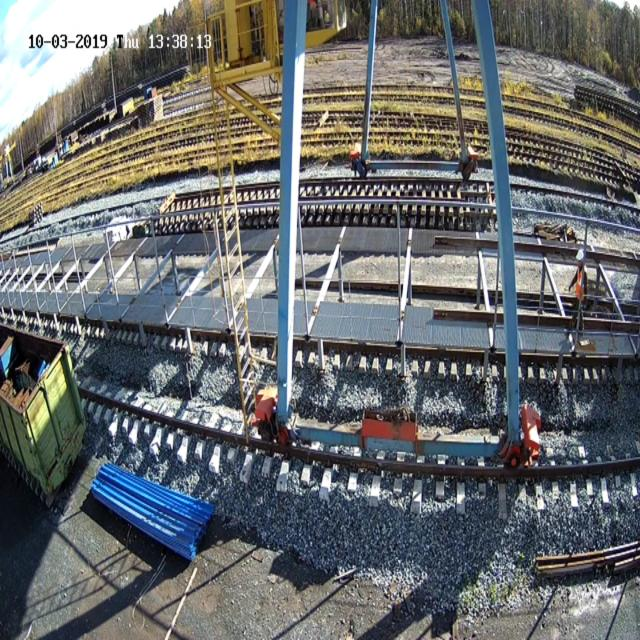Helmet: (575, 249, 585, 261)
Person: (568, 249, 588, 341)
